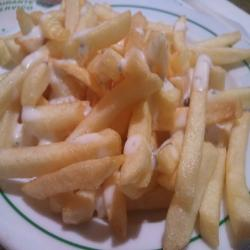fries: (6, 17, 244, 228)
